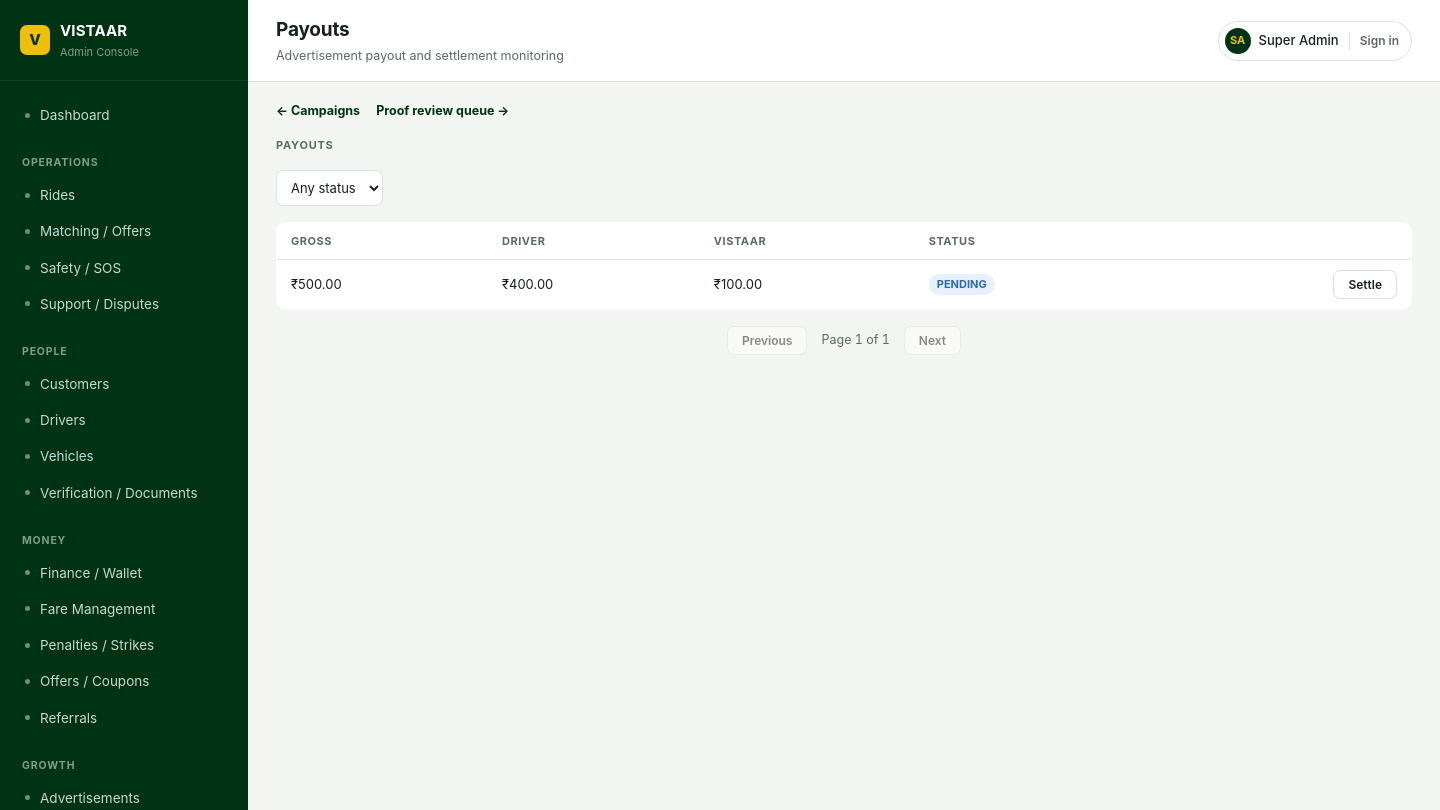
Test: PayoutsPage › settles a PENDING payout and refreshes the list
Click the button "Settle": [1365, 284] box x1=1333 y1=270 x2=1397 y2=299
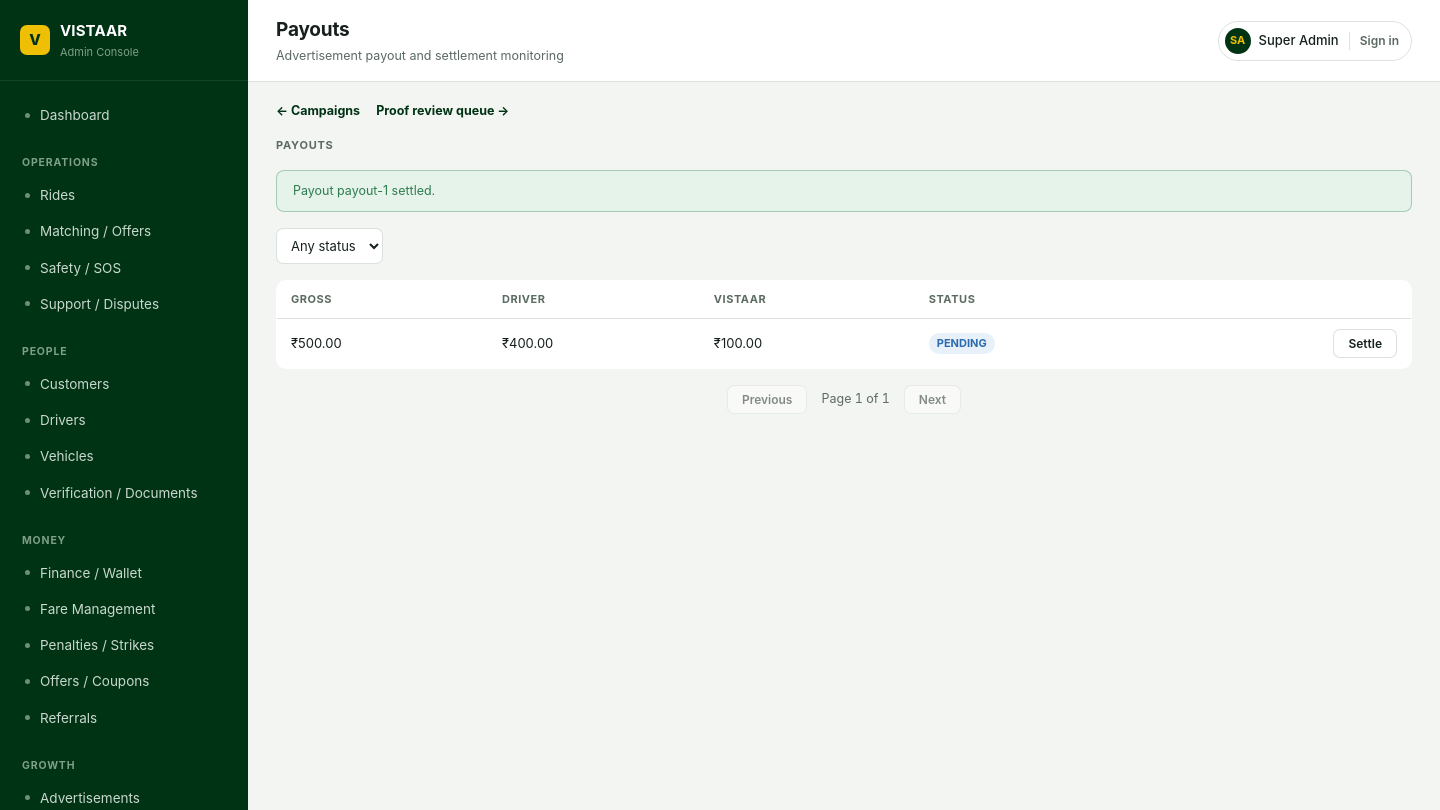
Result: the text "Payout payout-1 settled." is shown at x1=276 y1=170 x2=1412 y2=212
